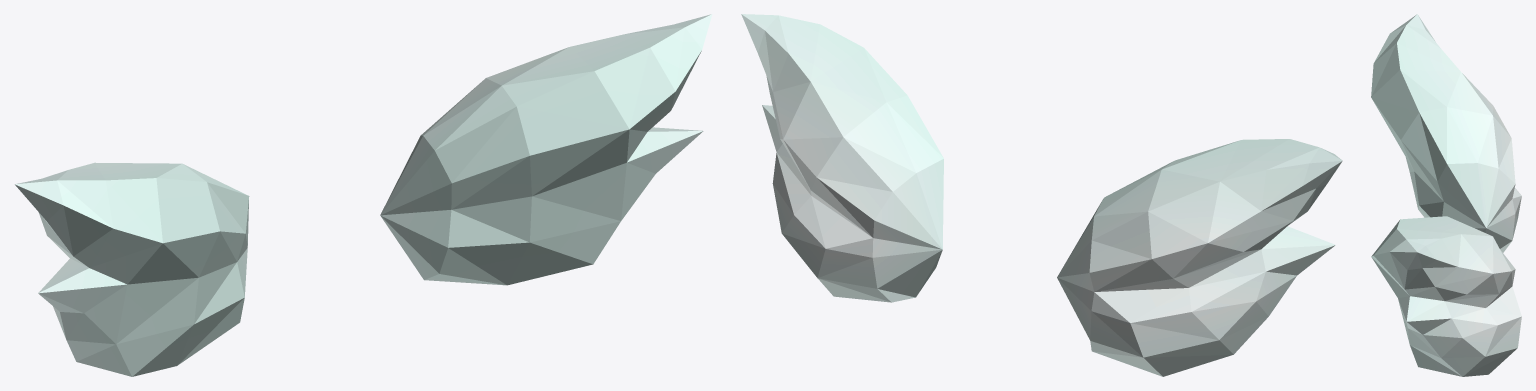
The model's file is CharSkyKid_Hair_ElderDay.glb.
The picture shows the model from 3 angles, left to right: view 1: azimuth 30°, elevation 25°; view 2: azimuth 150°, elevation 25°; view 3: azimuth 270°, elevation 25°; orthographic projection. The views are drawn at different scales.
Visible parts, largest first — view 1: CharSkyKid_Hair_ElderDay; view 2: CharSkyKid_Hair_ElderDay; view 3: CharSkyKid_Hair_ElderDay.
Boxes of the visible parts, box(x1,y1,x2,y2) form: CharSkyKid_Hair_ElderDay: box(15, 14, 712, 376); CharSkyKid_Hair_ElderDay: box(741, 14, 1342, 376); CharSkyKid_Hair_ElderDay: box(1371, 14, 1521, 376).
Size of the model in its own units: 7.3 by 2.53 by 1.95.
1 material, 1 textured.
